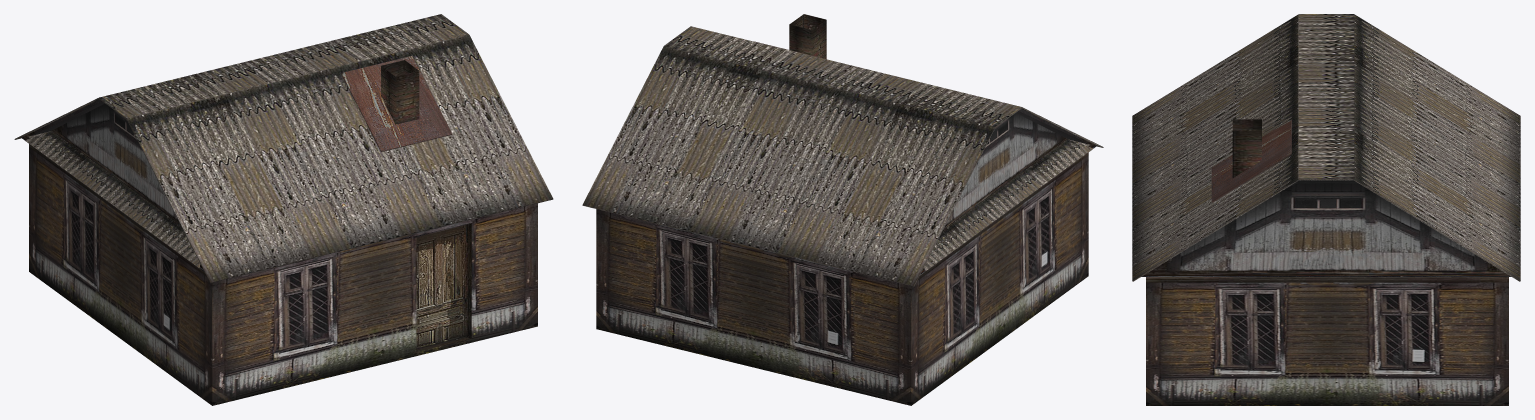
Rendered from sibir_domik5.FBX.
3 views of the same model, side by side, from view 1: azimuth 30°, elevation 25°; view 2: azimuth 150°, elevation 25°; view 3: azimuth 270°, elevation 25° (orthographic). The views are drawn at different scales.
Parts seen in each view (by area): view 1: sibir_domik5; view 2: sibir_domik5; view 3: sibir_domik5.
Part boxes in pixels (x1,y1,x2,y2): sibir_domik5: (14,14,553,405); sibir_domik5: (582,14,1103,405); sibir_domik5: (1132,14,1520,405).
Size of the model in its own units: 690 by 682 by 464.
